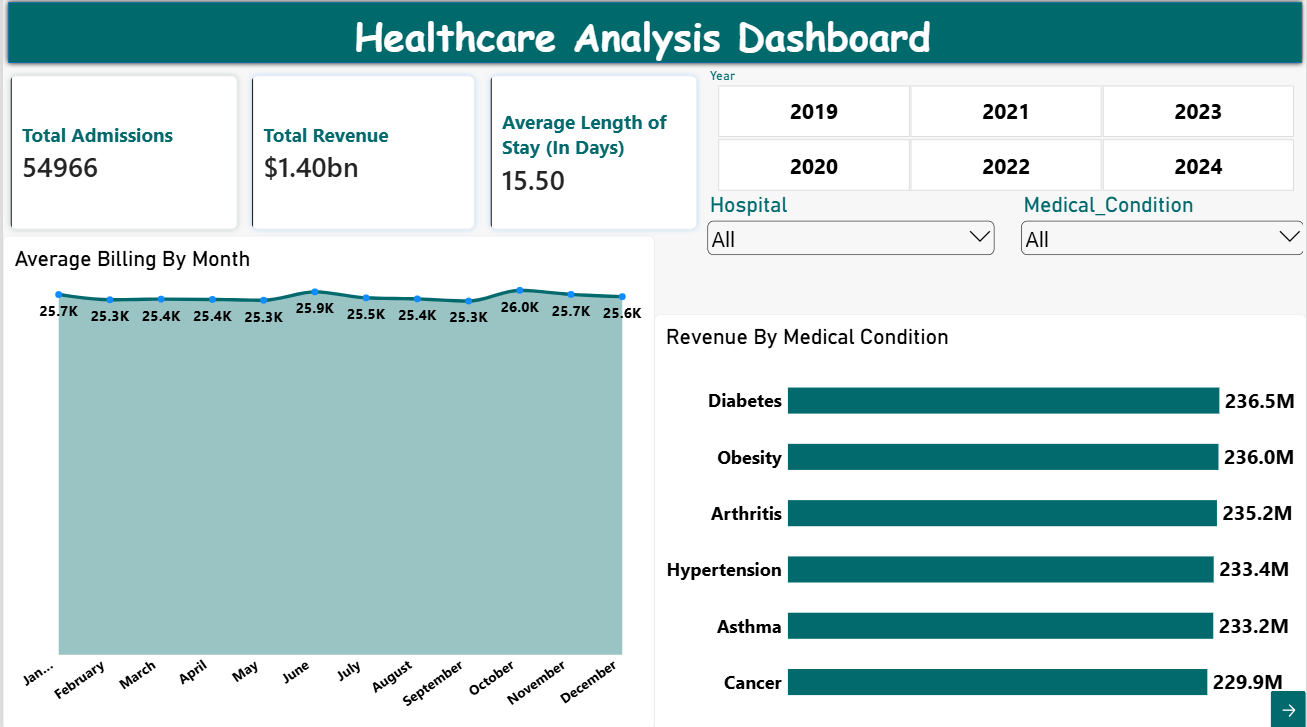

The page's visual inventory and layout, read from the dashboard file:
{"tool":"powerbi","page":{"name":"Page 1","canvas":[1920,1080],"ordinal":0},"visuals":[{"type":"barChart","title":"Revenue By Medical Condition","fields":{"Y":["Sum(Sheet1.Billing_Amount)"],"Category":["Sheet1.Medical_Condition"]},"box":[959.2,467.2,961.2,613.4],"z":0},{"type":"cardVisual","fields":{"Data":["CountNonNull(Sheet1.Name)"]},"box":[0,104,356,248],"z":1000},{"type":"textbox","box":[356.1,20.6,496.1,135.8],"z":2000},{"type":"cardVisual","fields":{"Data":["Sum(Sheet1.Billing_Amount)"]},"box":[356,104,350,248],"z":3000},{"type":"cardVisual","fields":{"Data":["Avg(Sheet1.Days_Stayed)"]},"box":[706,104,326,248],"z":4000},{"type":"areaChart","title":"Average Billing By Month","fields":{"Category":["Sheet1.Month"],"Y":["Avg(Sheet1.Billing_Amount)"]},"box":[0,352,959.2,728.6],"z":5000},{"type":"shape","box":[0,0,1920.4,105],"z":6000},{"type":"textbox","box":[516.6,18.5,946.8,86.4],"z":7000},{"type":"slicer","fields":{"Values":["Sheet1.Medical_Condition"]},"box":[1494,288,426,180],"z":8000},{"type":"slicer","fields":{"Values":["Sheet1.Year"]},"box":[1032.5,104.9,887.1,182.2],"z":9000},{"type":"slicer","fields":{"Values":["Sheet1.Hospital"]},"box":[1032,288,432,180],"z":10000},{"type":"actionButton","box":[1845.5,1009.1,75,70.5],"z":12000}]}

Visuals, with their boxes in screenshot pixels (x1, y1, x2, y2), scaled from the page's 1920x1080 canvas onto the 1307x727 screenshot:
"Revenue By Medical Condition" barChart: <box>653,314,1306,726</box>
cardVisual - CountNonNull(Sheet1.Name): <box>0,70,242,237</box>
textbox: <box>242,14,580,105</box>
cardVisual - Sum(Sheet1.Billing_Amount): <box>242,70,481,237</box>
cardVisual - Avg(Sheet1.Days_Stayed): <box>481,70,703,237</box>
"Average Billing By Month" areaChart: <box>0,237,653,726</box>
shape: <box>0,0,1306,71</box>
textbox: <box>352,12,996,71</box>
slicer - Sheet1.Medical_Condition: <box>1017,194,1306,315</box>
slicer - Sheet1.Year: <box>703,71,1306,193</box>
slicer - Sheet1.Hospital: <box>703,194,997,315</box>
actionButton: <box>1256,679,1306,726</box>
